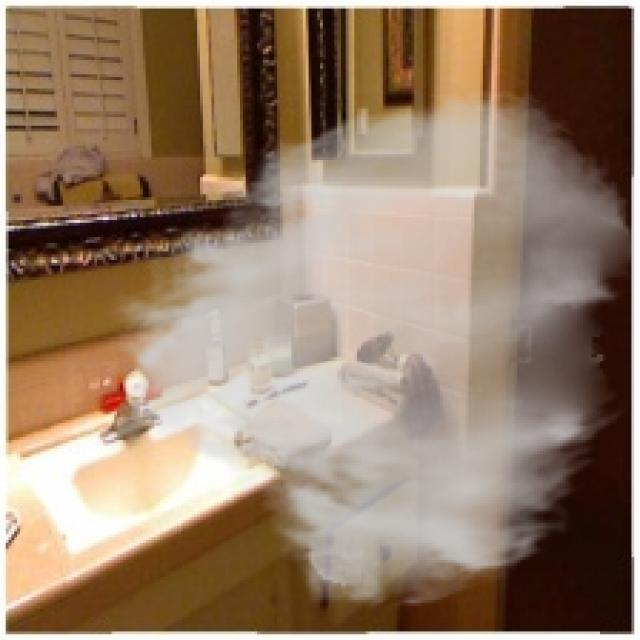smoke: (97, 86, 637, 614)
